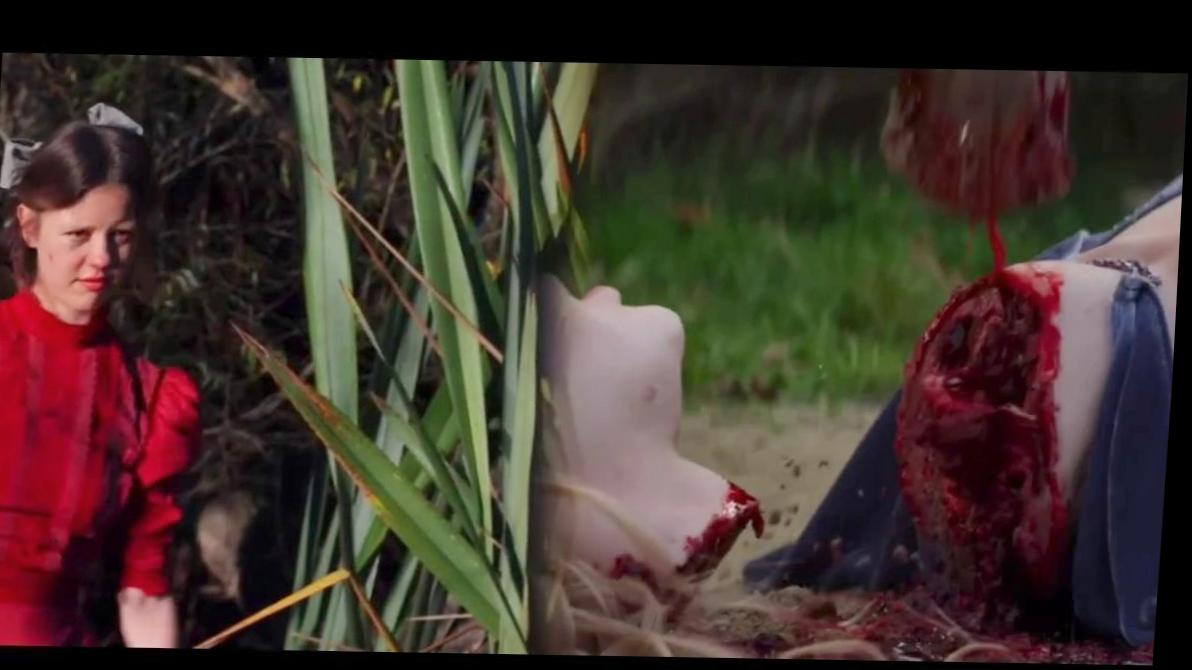Fire: (884, 69, 1075, 599), (682, 482, 770, 581)
